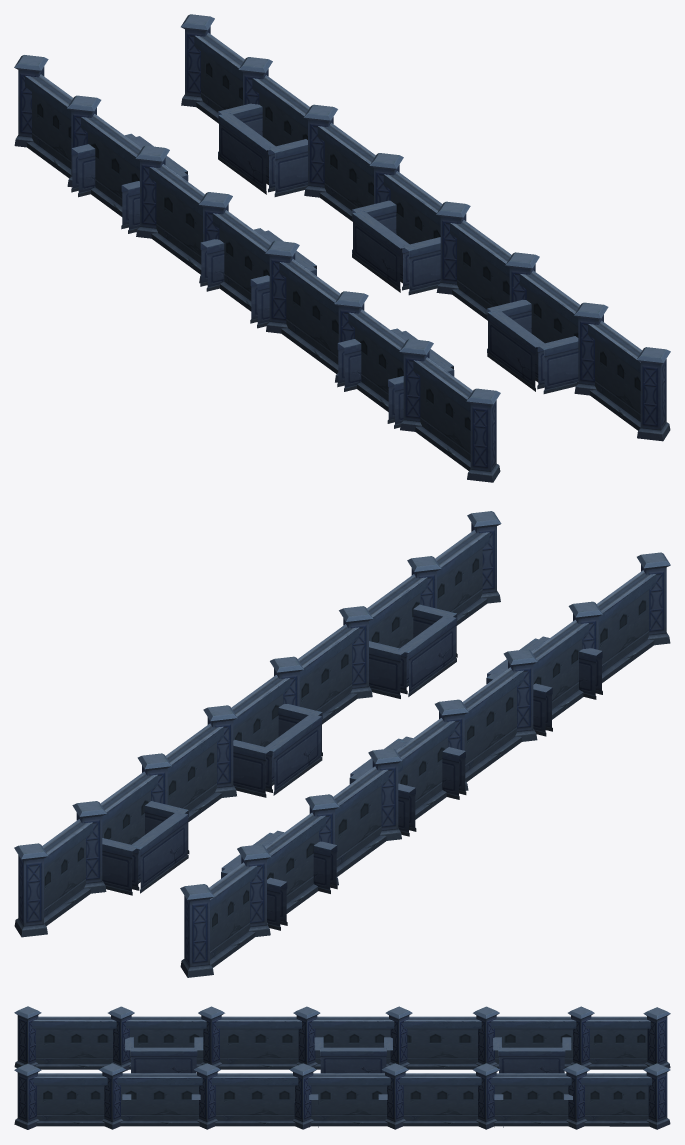
Rendered from Area_09_4.fbx.
3 views of the same model, one above another, from view 1: azimuth 30°, elevation 25°; view 2: azimuth 150°, elevation 25°; view 3: azimuth 270°, elevation 25° (orthographic). The views are drawn at different scales.
Parts seen in each view (by area): view 1: Area_09_4; view 2: Area_09_4; view 3: Area_09_4.
Boxes of the visible parts, x1=… form: Area_09_4: x1=14, y1=14, x2=670, y2=482; Area_09_4: x1=14, y1=511, x2=670, y2=977; Area_09_4: x1=14, y1=1006, x2=670, y2=1129.
Size of the model in its own units: 1850 by 695 by 7314.
